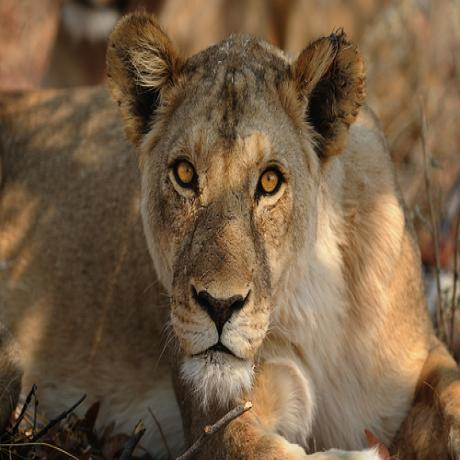Lion: (0, 13, 437, 460)
